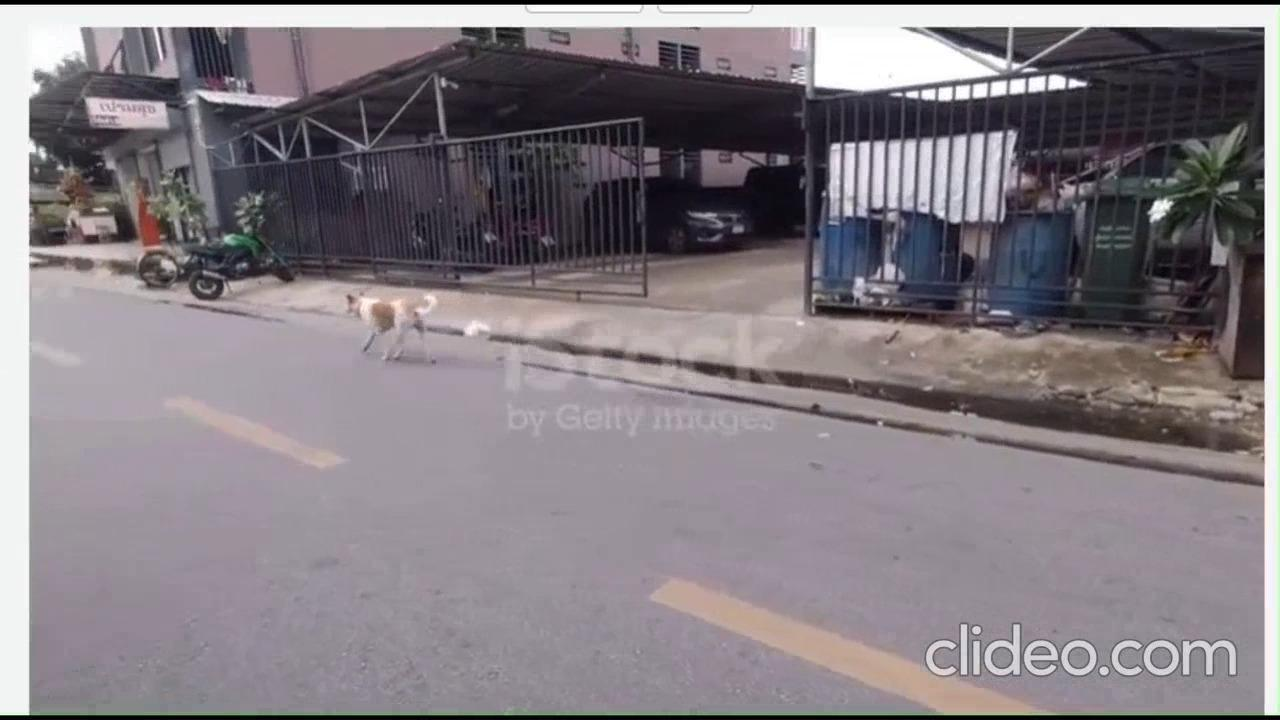dog: (340, 285, 436, 362)
